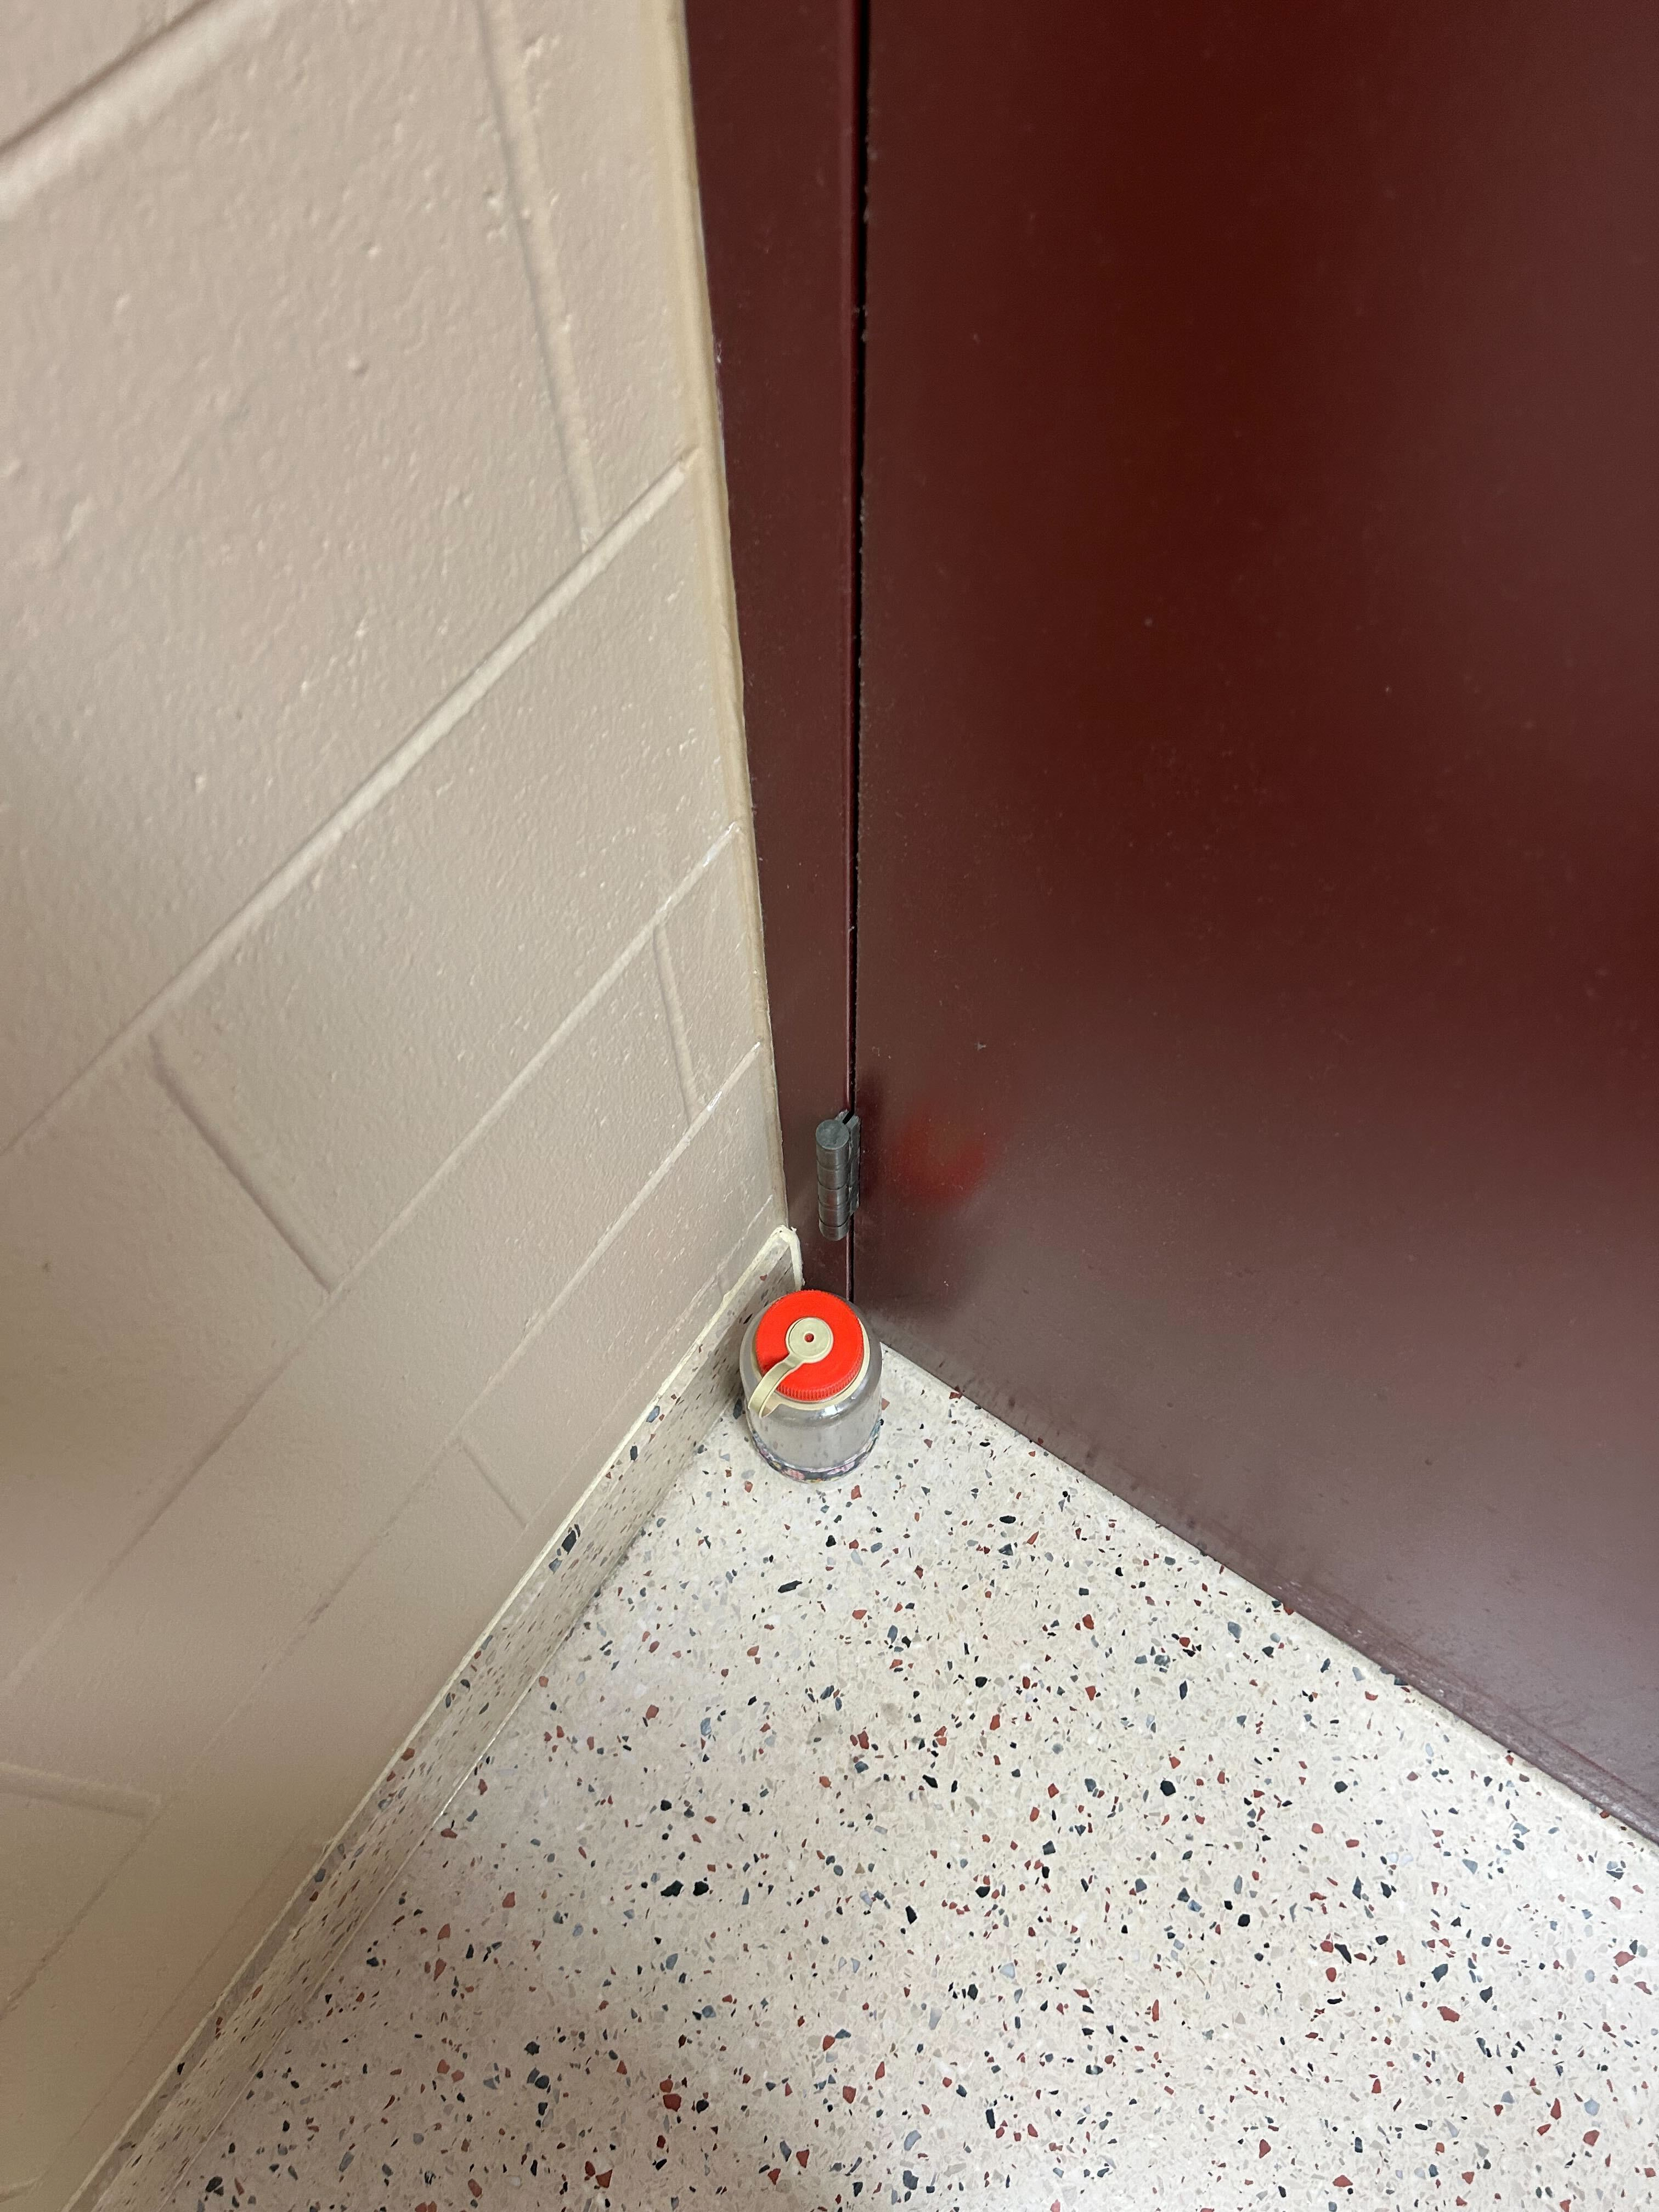bottle: (734, 1277, 885, 1489)
